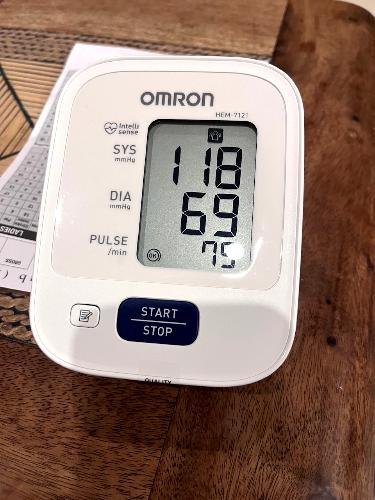bpm: (135, 112, 265, 277)
